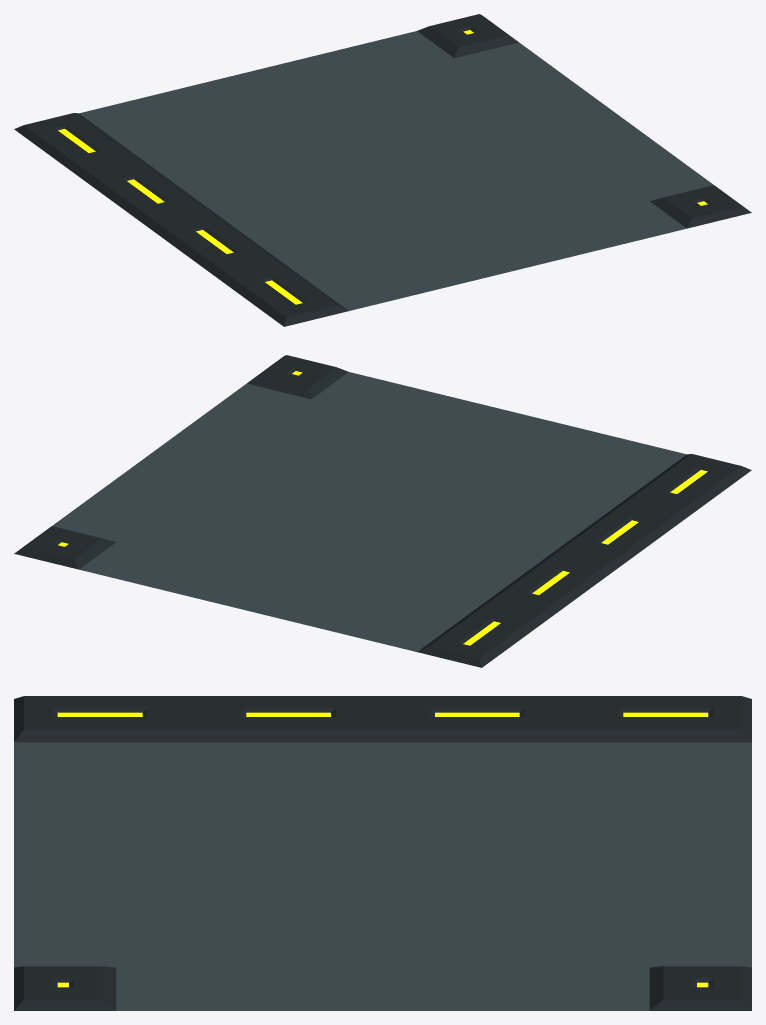
The model's file is floorTType.fbx.
The picture shows the model from 3 angles, top to bottom: view 1: azimuth 30°, elevation 25°; view 2: azimuth 150°, elevation 25°; view 3: azimuth 270°, elevation 25°; orthographic projection. The views are drawn at different scales.
Parts seen in each view (by area): view 1: floorTType; view 2: floorTType; view 3: floorTType.
Boxes of the visible parts, left/top/right/bottom form: floorTType: left=14, top=14, right=751, bottom=326; floorTType: left=14, top=355, right=751, bottom=667; floorTType: left=14, top=696, right=751, bottom=1010.
Size of the model in its own units: 2 by 2 by 0.0215.
